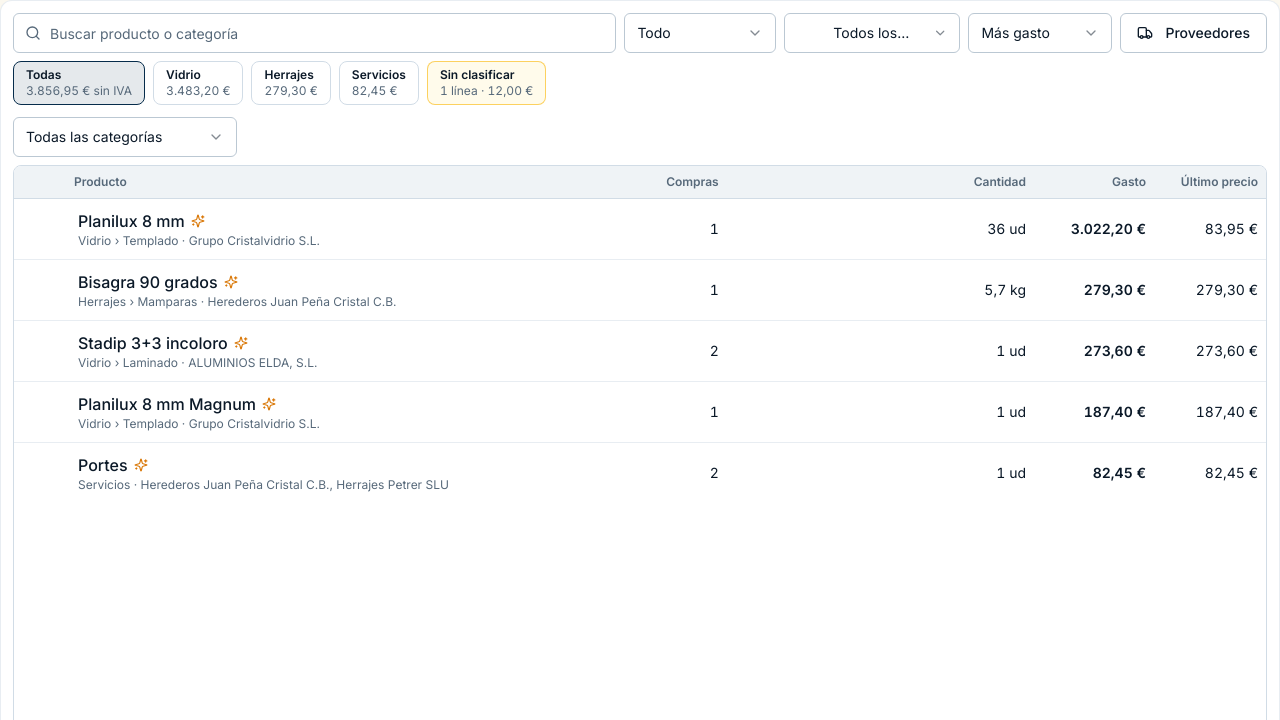
Test: Proveedores unificados en Productos › sin permiso de edición: se consulta, pero sin casillas ni editar
The image size is (1280, 720).
Expected: the text "Planilux 8 mm" is shown, x1=78 y1=209 x2=185 y2=233
Click the button "Proveedores": x=1194, y=33 x1=1120 y1=13 x2=1267 y2=53
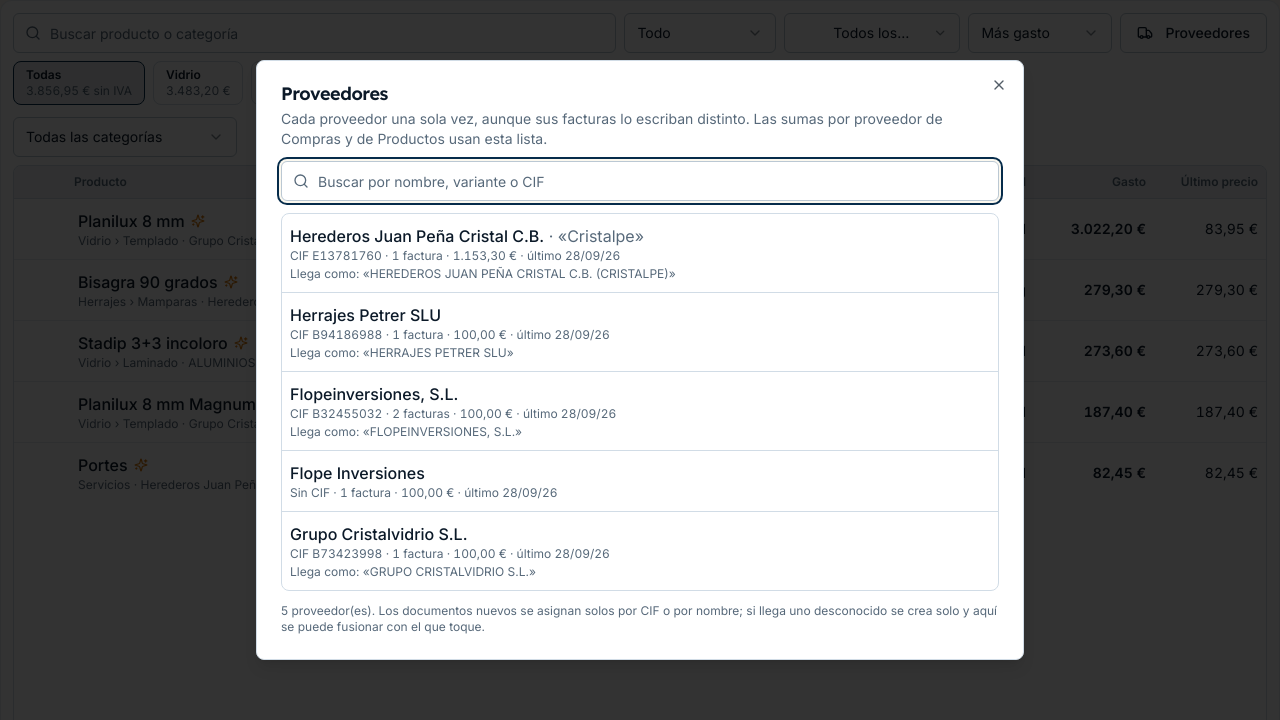
Expected: the list with test id "lista-proveedores" is shown, x1=281 y1=213 x2=999 y2=591
